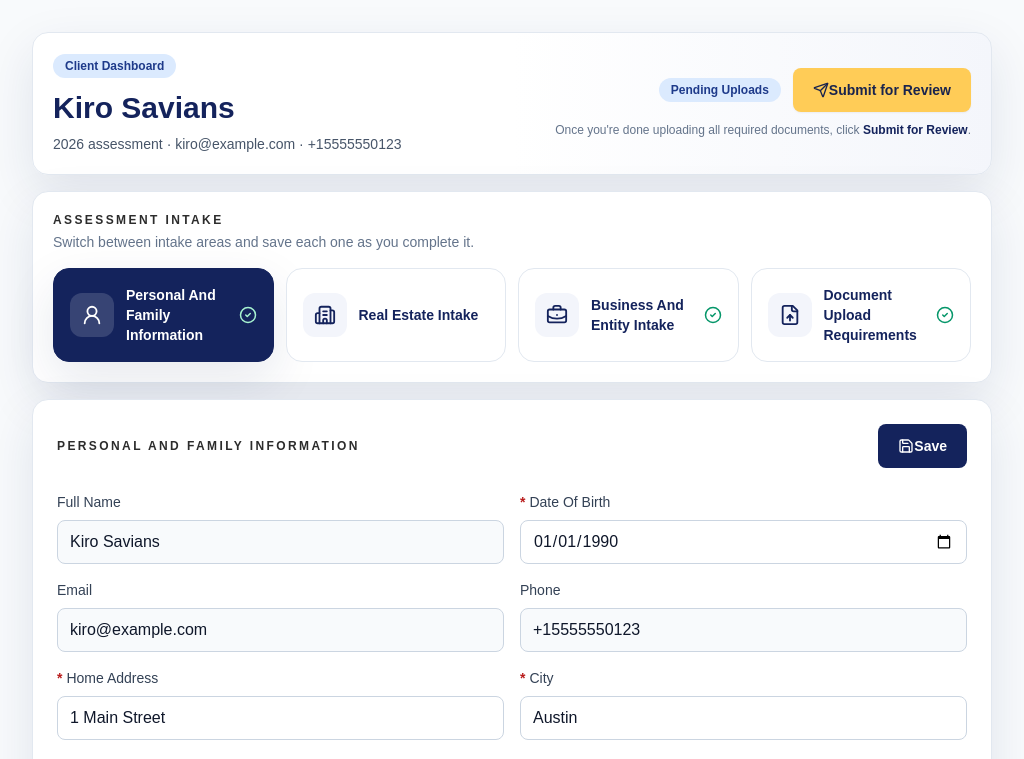
Scenario: PortalDashboardClient › blocks Business and Entity Intake when Homeowner? is Yes and no property exists
Expected: the heading "Kiro Savians" is shown, [53,91,235,124]
Click the button "Business And Entity Intake".
click(628, 315)  # box [518,268,738,362]
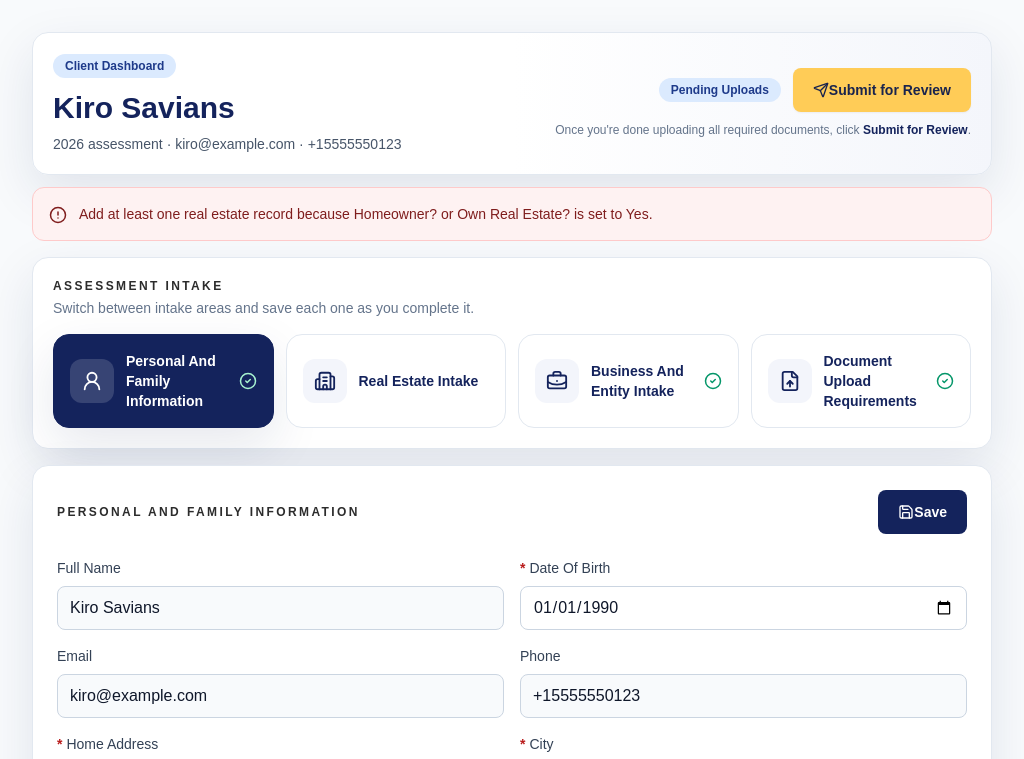
Expected: the text "Add at least one real estate record because Homeowner? or Own Real Estate? is set to Yes." is shown, [79,206,653,222]
